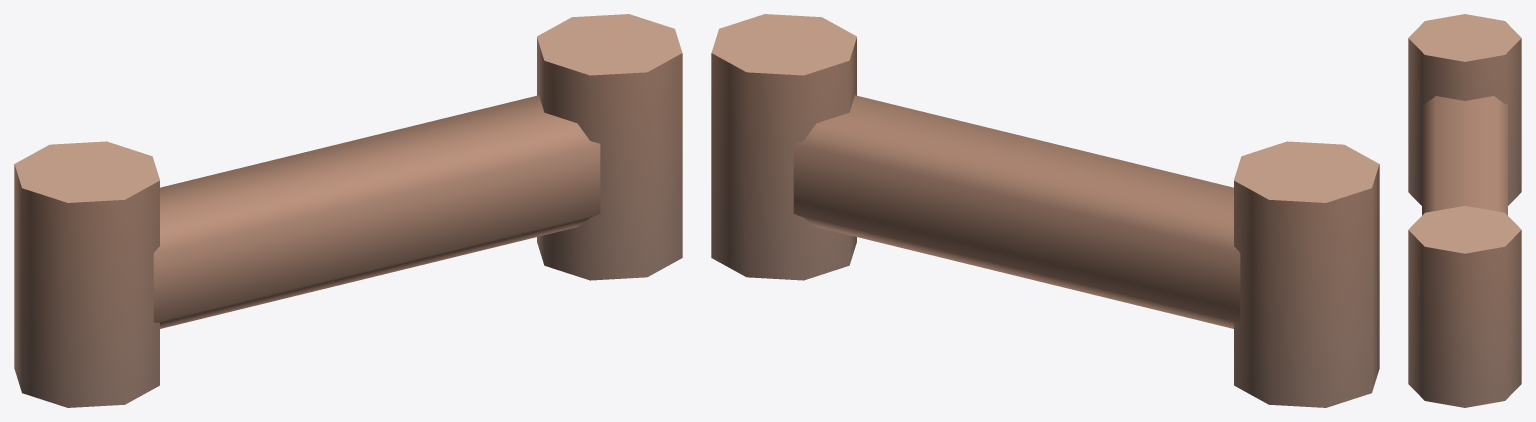
The model's file is fence.glb.
3 renders of one model, left to right at view 1: azimuth 30°, elevation 25°; view 2: azimuth 150°, elevation 25°; view 3: azimuth 270°, elevation 25°, orthographic. The views are drawn at different scales.
Parts seen in each view (by area): view 1: fence; view 2: fence; view 3: fence.
Boxes of the visible parts, bbox=[...] form: fence: bbox=[14, 14, 682, 407]; fence: bbox=[711, 14, 1379, 407]; fence: bbox=[1408, 14, 1521, 407].
Bounding box in the file's own units: 1 × 0.3 × 0.2.
